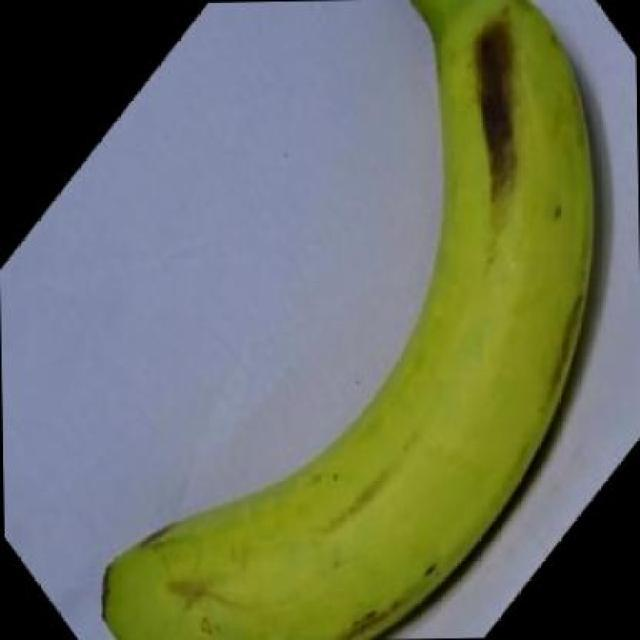unripe: (62, 0, 640, 640)
